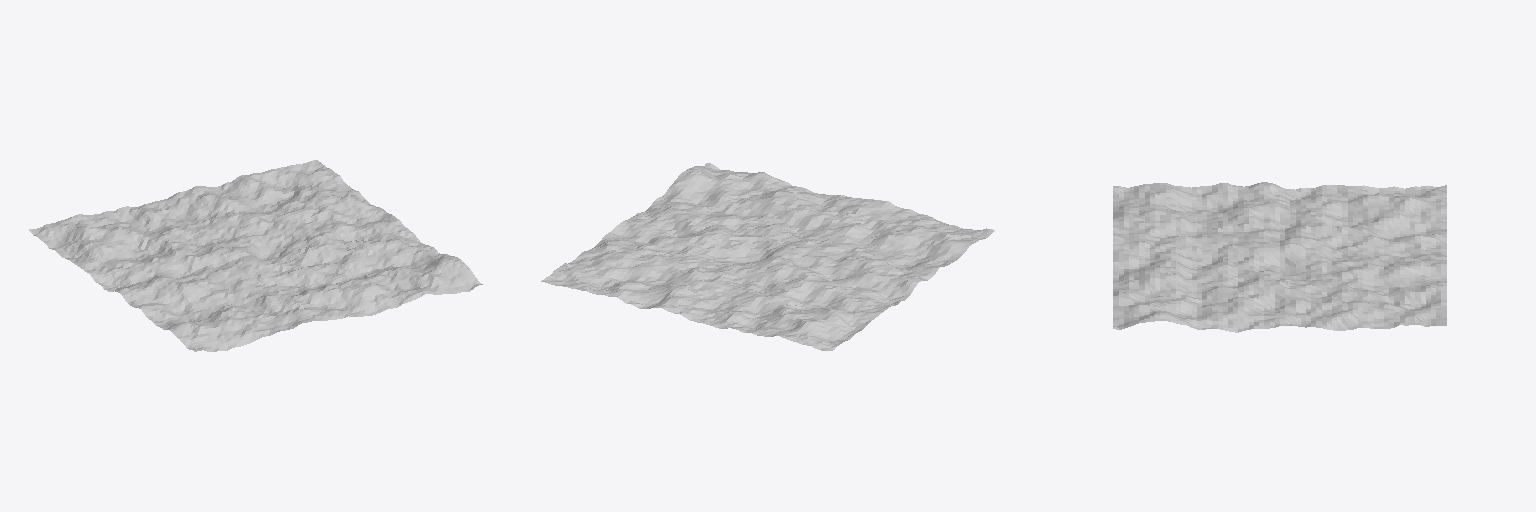
The model's file is hills_01.obj.
3 views of the same model, side by side, from view 1: azimuth 30°, elevation 25°; view 2: azimuth 150°, elevation 25°; view 3: azimuth 270°, elevation 25° (orthographic).
Visible parts, largest first — view 1: Cube_Cube.001; view 2: Cube_Cube.001; view 3: Cube_Cube.001.
Boxes of the visible parts, <box> form: Cube_Cube.001: <box>29,160,482,351</box>; Cube_Cube.001: <box>541,163,994,350</box>; Cube_Cube.001: <box>1113,182,1446,332</box>.
Size of the model in its own units: 400 by 19.61 by 400.